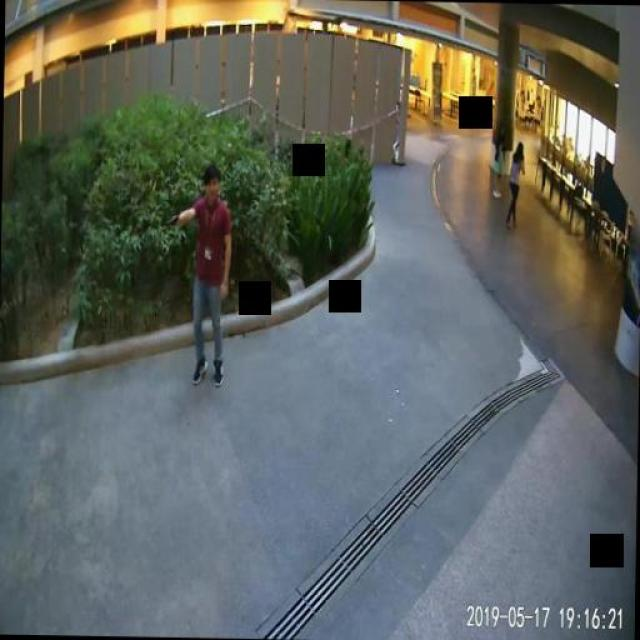gun: (165, 210, 180, 228)
